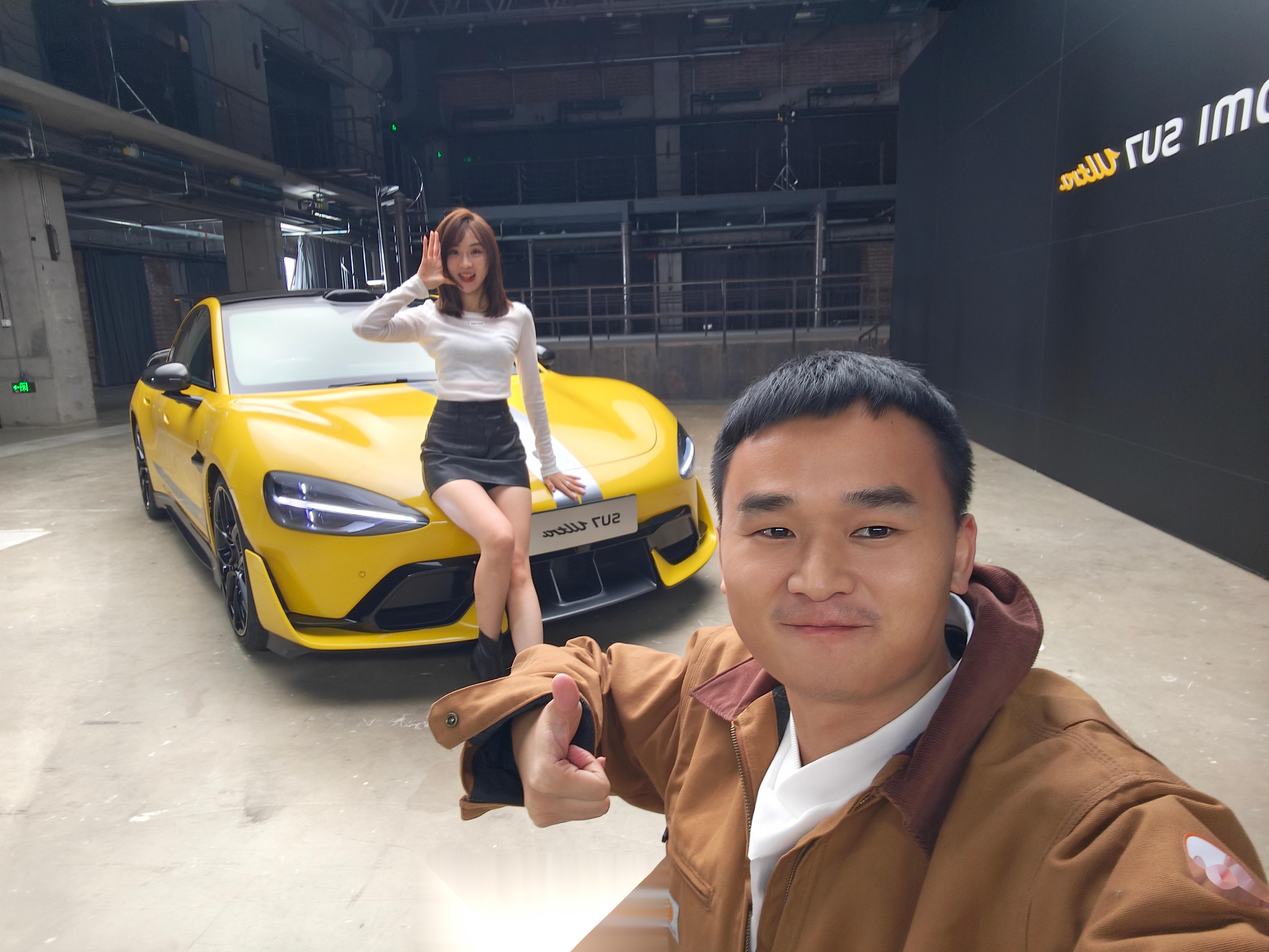su7: (110, 280, 718, 669)
